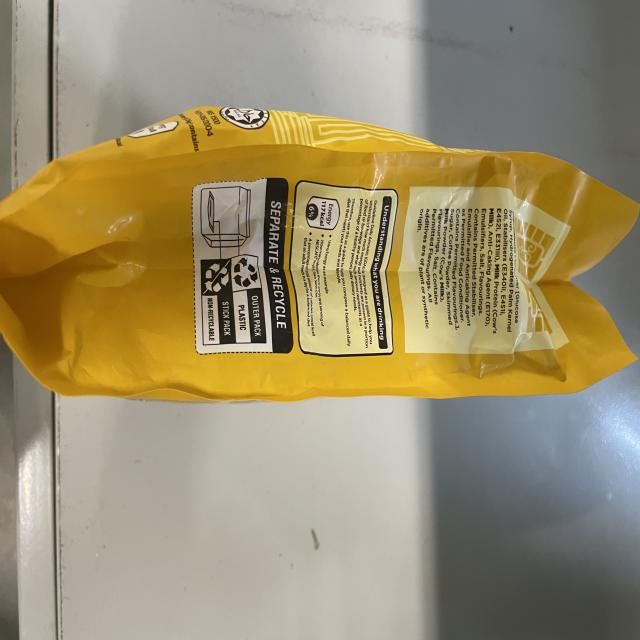object_name: (4, 113, 630, 400)
